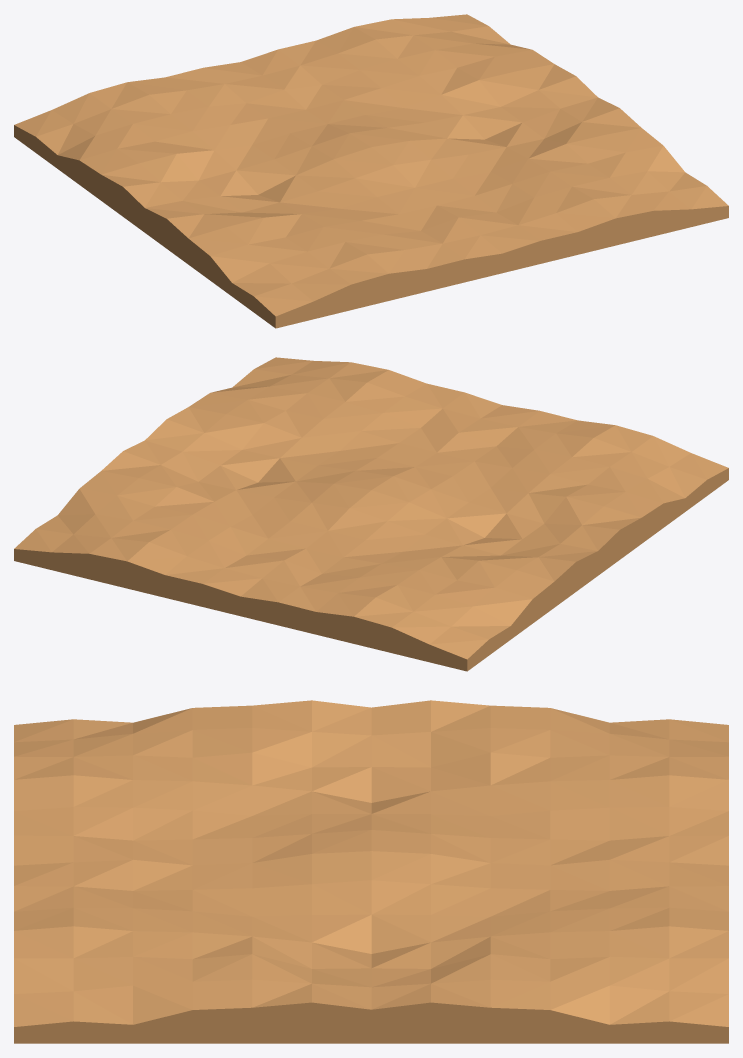
Rendered from Terrain Dessert  1.fbx.
3 renders of one model, top to bottom at view 1: azimuth 30°, elevation 25°; view 2: azimuth 150°, elevation 25°; view 3: azimuth 270°, elevation 25°, orthographic. The views are drawn at different scales.
Visible parts, largest first — view 1: Cube.010; view 2: Cube.010; view 3: Cube.010.
Boxes of the visible parts, bbox=[...] form: Cube.010: bbox=[14, 14, 728, 328]; Cube.010: bbox=[14, 357, 728, 671]; Cube.010: bbox=[14, 700, 728, 1043].
Size of the model in its own units: 16 by 1.03 by 16.
